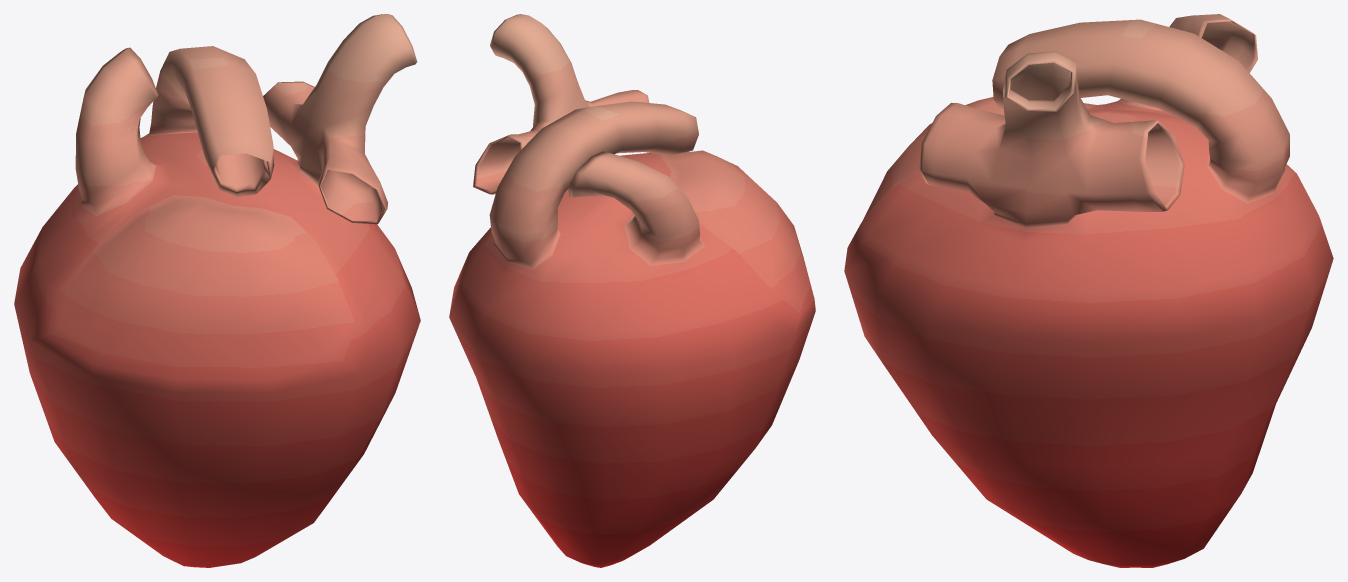
The model's file is Dog_Heart_adjusted.fbx.
The picture shows the model from 3 angles, left to right: view 1: azimuth 30°, elevation 25°; view 2: azimuth 150°, elevation 25°; view 3: azimuth 270°, elevation 25°; orthographic projection. The views are drawn at different scales.
Visible parts, largest first — view 1: Dog_Heart_adjusted; view 2: Dog_Heart_adjusted; view 3: Dog_Heart_adjusted.
Part boxes in pixels (x1,y1,x2,y2): Dog_Heart_adjusted: [14, 14, 420, 567]; Dog_Heart_adjusted: [449, 14, 815, 567]; Dog_Heart_adjusted: [844, 14, 1333, 567].
Size of the model in its own units: 10.61 by 15.41 by 11.72.
